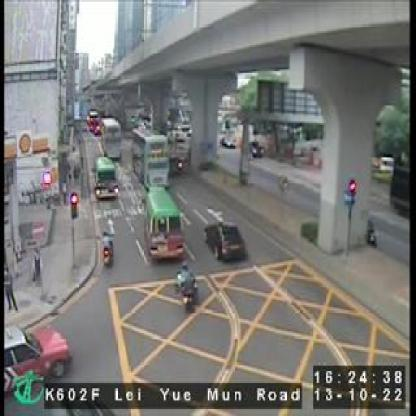Bus: (132, 128, 172, 186), (102, 118, 122, 161)
Car: (5, 321, 73, 387), (204, 221, 248, 261)
Minibus: (144, 187, 184, 265), (93, 156, 119, 203)
Truck: (87, 110, 102, 134)
